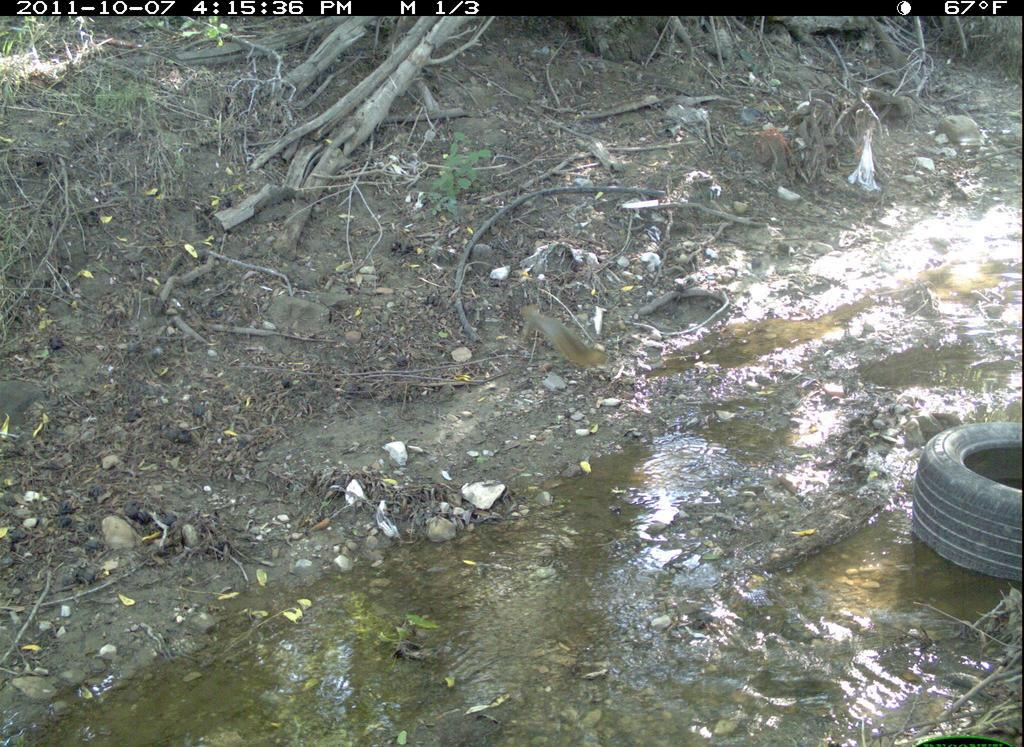squirrel: (513, 296, 613, 381)
